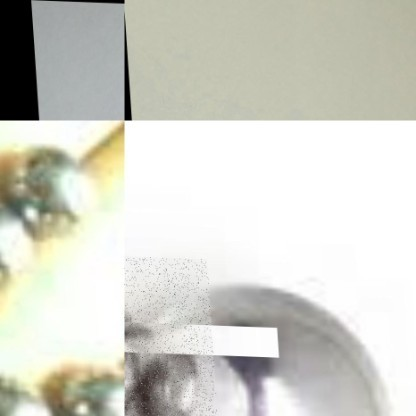ironball: (136, 242, 396, 415), (124, 255, 212, 415), (0, 128, 109, 241), (0, 191, 47, 299), (53, 350, 124, 415), (0, 366, 55, 415)
